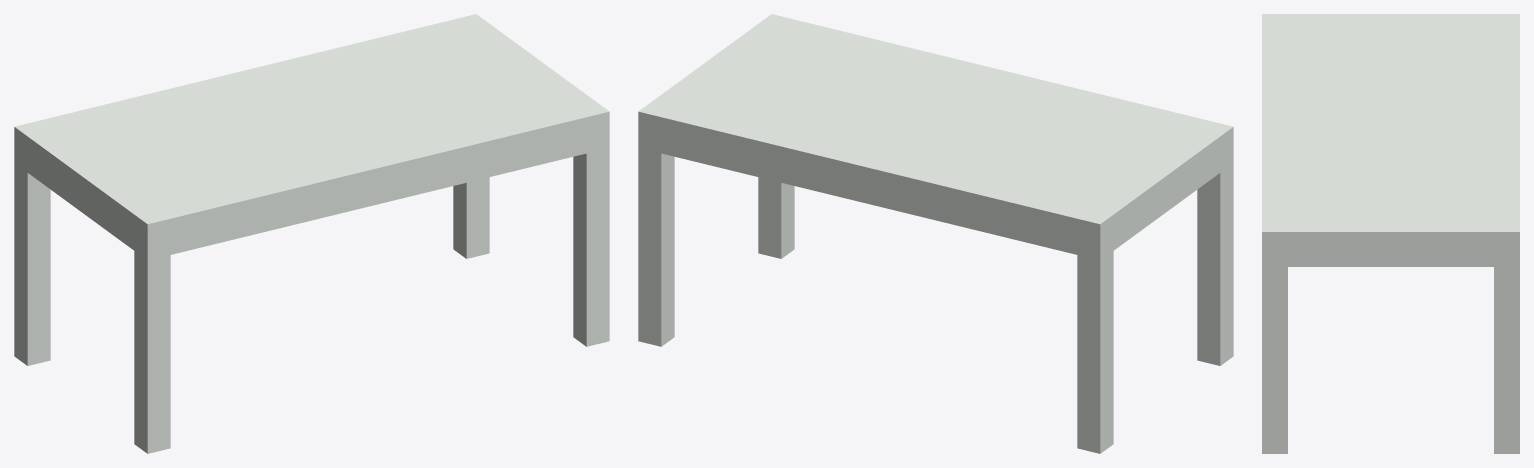
Rendered from tabel.obj.
3 renders of one model, left to right at view 1: azimuth 30°, elevation 25°; view 2: azimuth 150°, elevation 25°; view 3: azimuth 270°, elevation 25°, orthographic. The views are drawn at different scales.
Bounding box in the file's own units: 4 × 1.9 × 2.
Materials: 1 (1 with a texture image).
